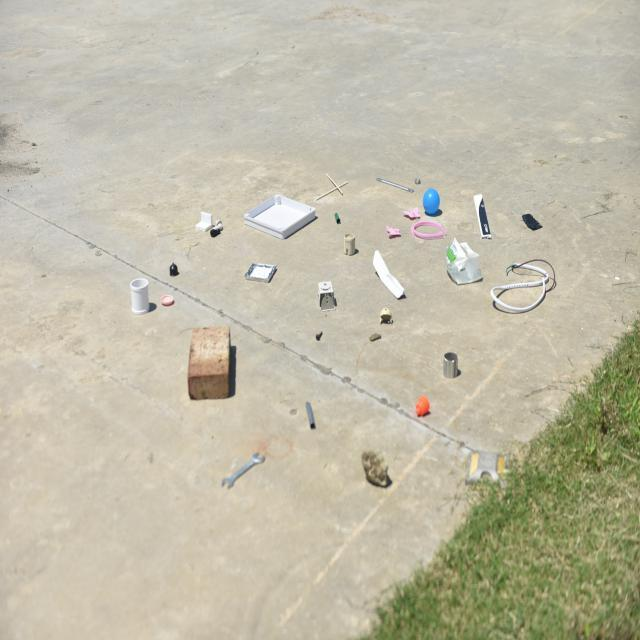Debris: (489, 246, 563, 329), (186, 319, 241, 415), (244, 186, 318, 240), (460, 440, 508, 504), (209, 448, 267, 494), (383, 208, 447, 249), (448, 228, 484, 287), (366, 245, 406, 296), (353, 446, 390, 500), (468, 192, 502, 242), (122, 270, 153, 324), (189, 200, 226, 242), (369, 166, 423, 193), (243, 259, 283, 288), (313, 166, 347, 200), (438, 344, 466, 384), (309, 278, 339, 314), (409, 386, 433, 428), (299, 399, 322, 439), (155, 285, 181, 314), (519, 209, 548, 233), (423, 181, 443, 213), (326, 206, 351, 228), (165, 256, 187, 280), (340, 233, 360, 258), (376, 306, 394, 328), (369, 329, 385, 345), (312, 329, 327, 342)
